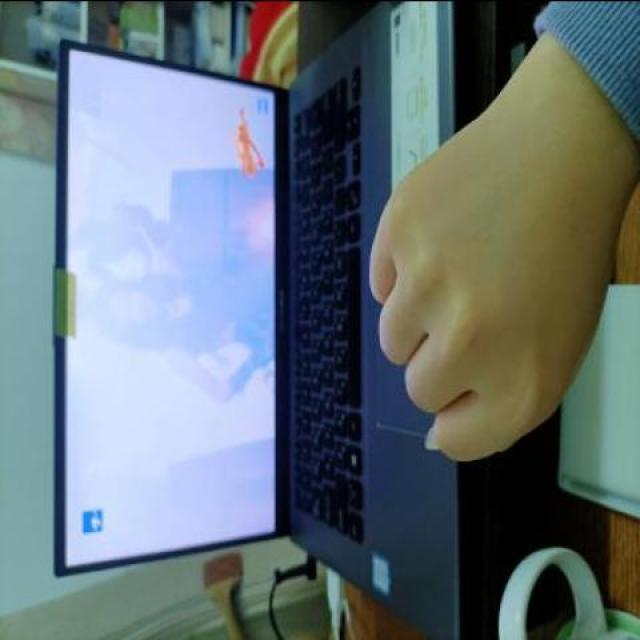Closed Hand: (363, 107, 630, 465)
